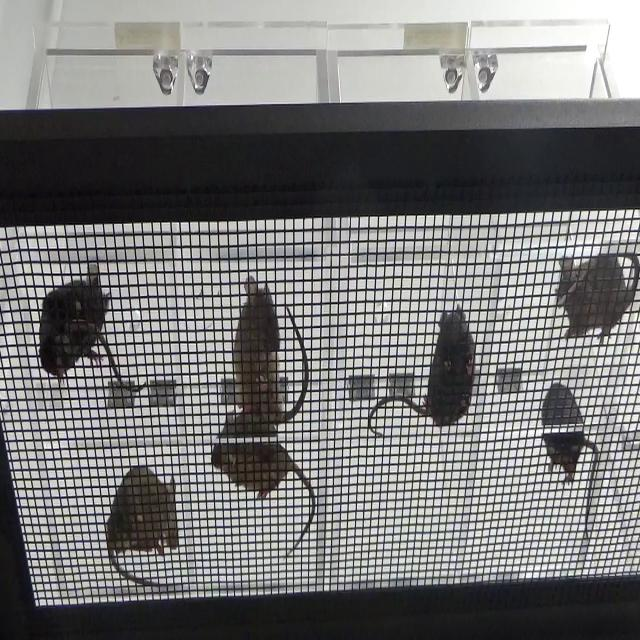lick claw: (226, 268, 314, 440)
lick tail: (32, 254, 151, 404)
scratch: (548, 246, 640, 348)
